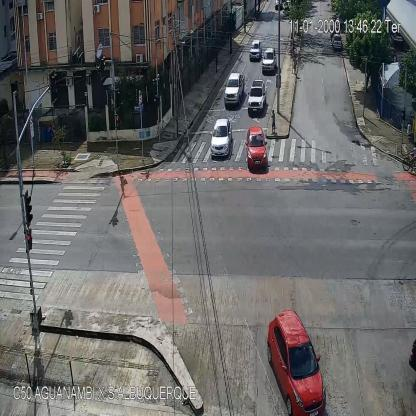bicycle: (288, 36, 297, 56)
car: (266, 310, 326, 415), (245, 127, 268, 174), (210, 119, 232, 157), (247, 79, 267, 114), (225, 72, 245, 104), (262, 45, 278, 73), (249, 37, 261, 59), (332, 34, 342, 50)
person: (214, 51, 220, 73), (292, 55, 298, 73)
